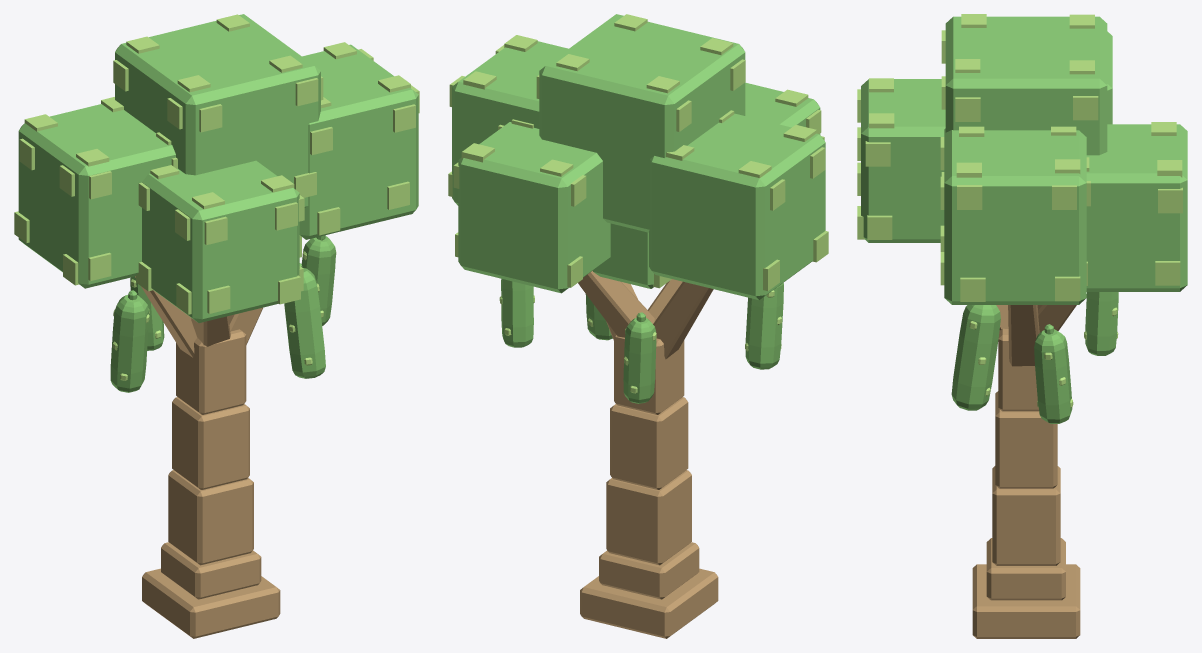
The model's file is CucumberTree.fbx.
3 renders of one model, left to right at view 1: azimuth 30°, elevation 25°; view 2: azimuth 150°, elevation 25°; view 3: azimuth 270°, elevation 25°, orthographic. The views are drawn at different scales.
Visible parts, largest first — view 1: CucumberTree.Crown, CucumberTree.Trunk, CucumberTree.CrownStuds, CucumberTree.Cukes; view 2: CucumberTree.Crown, CucumberTree.Trunk, CucumberTree.CrownStuds, CucumberTree.Cukes; view 3: CucumberTree.Crown, CucumberTree.Trunk, CucumberTree.CrownStuds, CucumberTree.Cukes.
Boxes of the visible parts, left/top/right/bottom form: CucumberTree.Crown: left=18, top=14, right=418, bottom=322; CucumberTree.Trunk: left=135, top=276, right=280, bottom=638; CucumberTree.CrownStuds: left=14, top=14, right=419, bottom=314; CucumberTree.Cukes: left=110, top=235, right=335, bottom=392; CucumberTree.Crown: left=452, top=14, right=825, bottom=300; CucumberTree.Trunk: left=578, top=271, right=718, bottom=638; CucumberTree.CrownStuds: left=448, top=14, right=828, bottom=291; CucumberTree.Cukes: left=501, top=279, right=783, bottom=403; CucumberTree.Crown: left=861, top=16, right=1187, bottom=304; CucumberTree.Trunk: left=972, top=305, right=1080, bottom=638; CucumberTree.CrownStuds: left=857, top=14, right=1182, bottom=301; CucumberTree.Cukes: left=951, top=292, right=1118, bottom=423.
Bounding box in the file's own units: 7.27 × 11.65 × 6.04.
